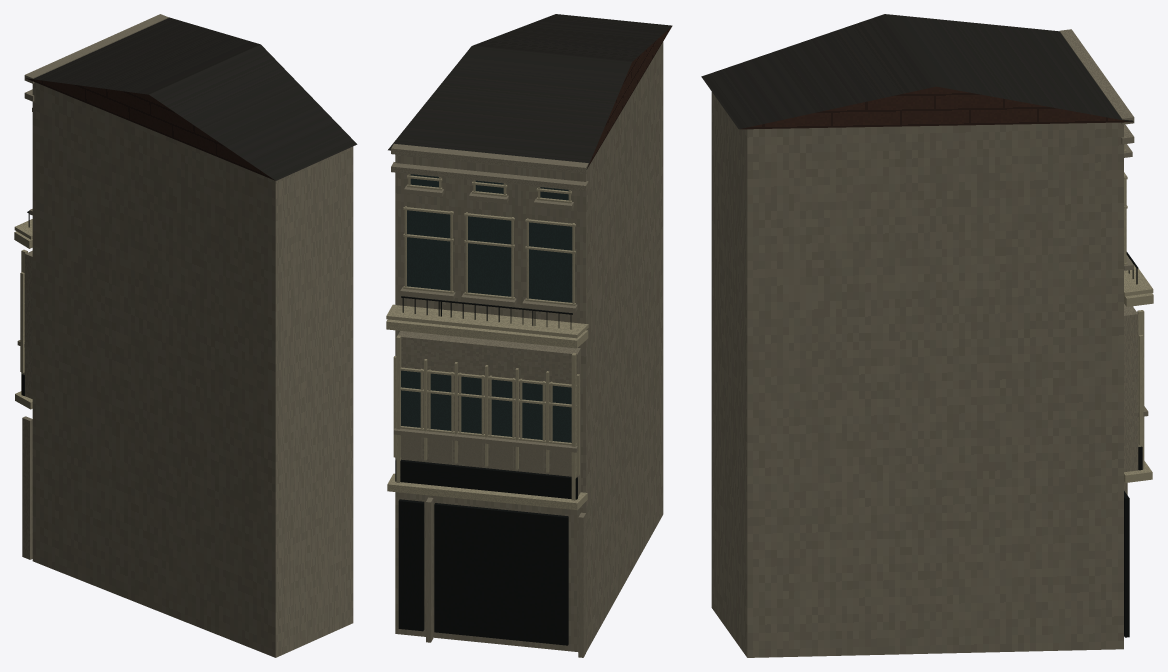
3 renders of one model, left to right at view 1: azimuth 30°, elevation 25°; view 2: azimuth 150°, elevation 25°; view 3: azimuth 270°, elevation 25°, orthographic. The views are drawn at different scales.
Parts seen in each view (by area): view 1: zuidblaak16-0, zuidblaak16-1, zuidblaak16-2, zuidblaak16-4; view 2: zuidblaak16-0, zuidblaak16-5, zuidblaak16-1, zuidblaak16-4, zuidblaak16-3, zuidblaak16-2; view 3: zuidblaak16-0, zuidblaak16-1, zuidblaak16-2, zuidblaak16-4, zuidblaak16-5.
Boxes of the visible parts, x1,y1,x2,y2 form: zuidblaak16-0: (17,14,353,657); zuidblaak16-1: (27,17,357,180); zuidblaak16-2: (26,78,274,180); zuidblaak16-4: (14,219,32,409); zuidblaak16-0: (391,42,663,657); zuidblaak16-5: (395,296,577,645); zuidblaak16-1: (388,14,671,169); zuidblaak16-4: (386,174,588,510); zuidblaak16-3: (401,174,572,442); zuidblaak16-2: (587,26,672,168); zuidblaak16-0: (711,29,1148,657); zuidblaak16-1: (701,14,1133,129); zuidblaak16-2: (740,86,1132,129); zuidblaak16-4: (1123,144,1153,482); zuidblaak16-5: (1124,252,1142,637).
Bounding box in the file's own units: 6.92 × 18.8 × 13.58.
Materials: 6 (6 with a texture image).
